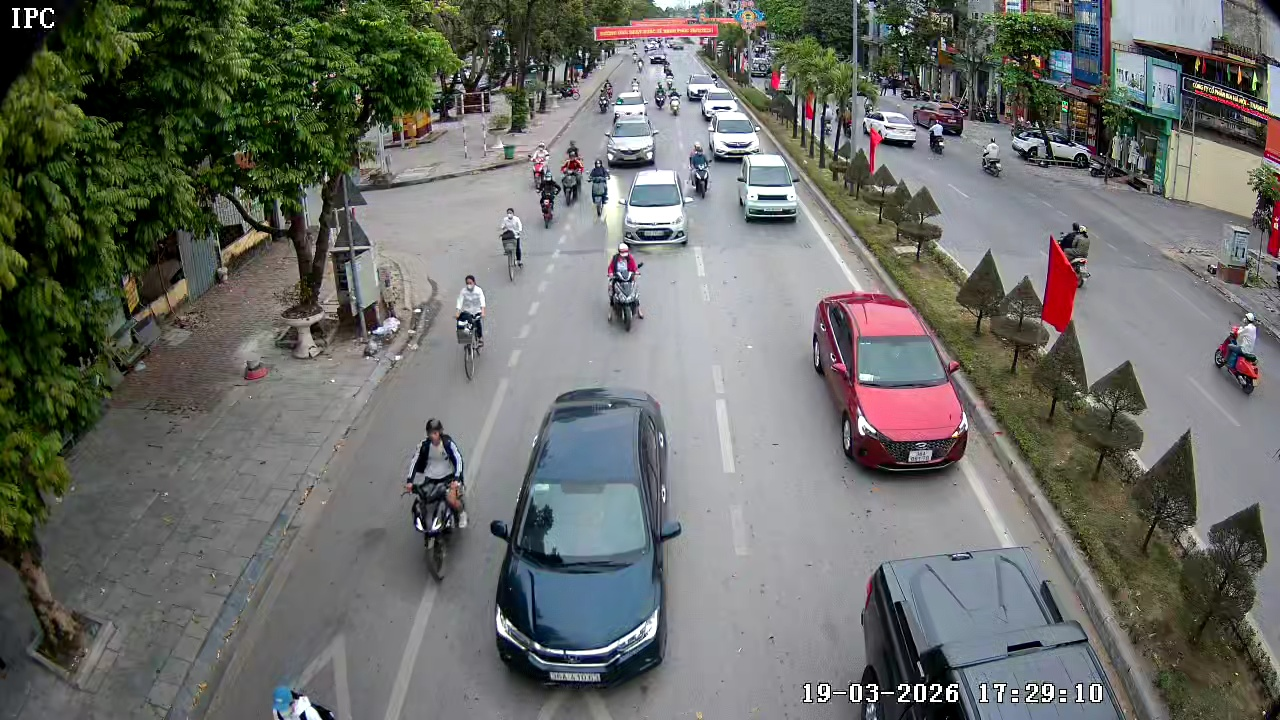bike: (451, 273, 490, 382), (497, 207, 527, 283), (536, 159, 560, 228), (588, 152, 613, 217)
car: (491, 389, 684, 681), (845, 549, 1129, 719), (810, 293, 969, 469), (620, 169, 693, 246), (735, 156, 800, 225), (604, 115, 660, 166), (706, 109, 759, 162), (702, 87, 741, 121)
motorbike: (398, 417, 472, 583), (1215, 312, 1263, 396), (605, 240, 645, 331), (1051, 219, 1092, 289), (559, 143, 584, 207), (687, 141, 711, 197), (527, 139, 549, 190), (668, 85, 682, 117), (655, 82, 666, 110), (597, 89, 609, 114)
